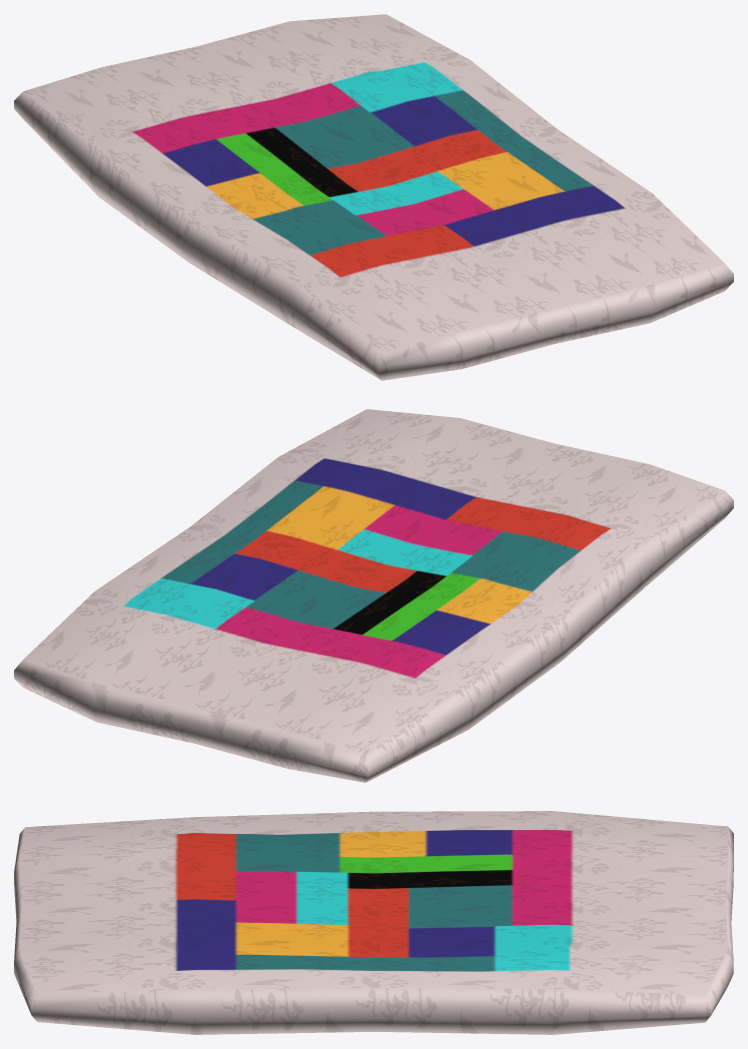
The model's file is blanket.fbx.
3 views of the same model, one above another, from view 1: azimuth 30°, elevation 25°; view 2: azimuth 150°, elevation 25°; view 3: azimuth 270°, elevation 25° (orthographic). The views are drawn at different scales.
Parts seen in each view (by area): view 1: blanket; view 2: blanket; view 3: blanket.
Part boxes in pixels (x1=…): blanket: x1=14, y1=14, x2=733, y2=380; blanket: x1=14, y1=409, x2=733, y2=782; blanket: x1=14, y1=811, x2=733, y2=1034.
Bounding box in the file's own units: 619 × 84.04 × 1022.
